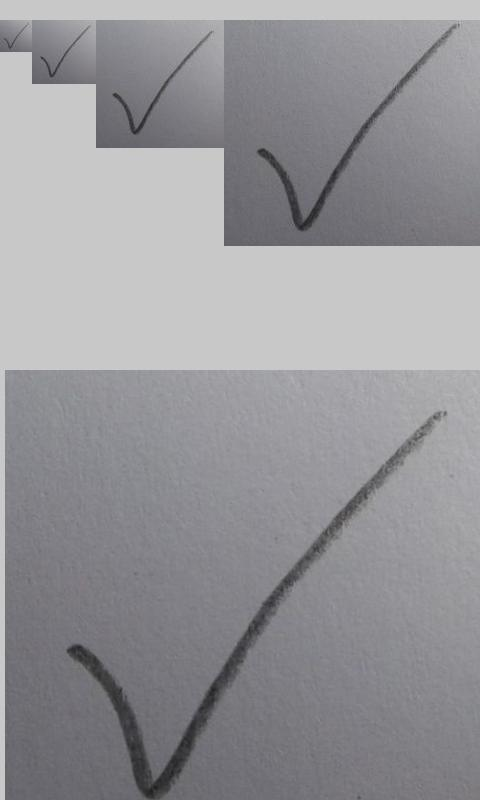check_box: (69, 412, 445, 800), (257, 23, 458, 231), (112, 30, 213, 135), (40, 25, 90, 78), (4, 23, 29, 49)
